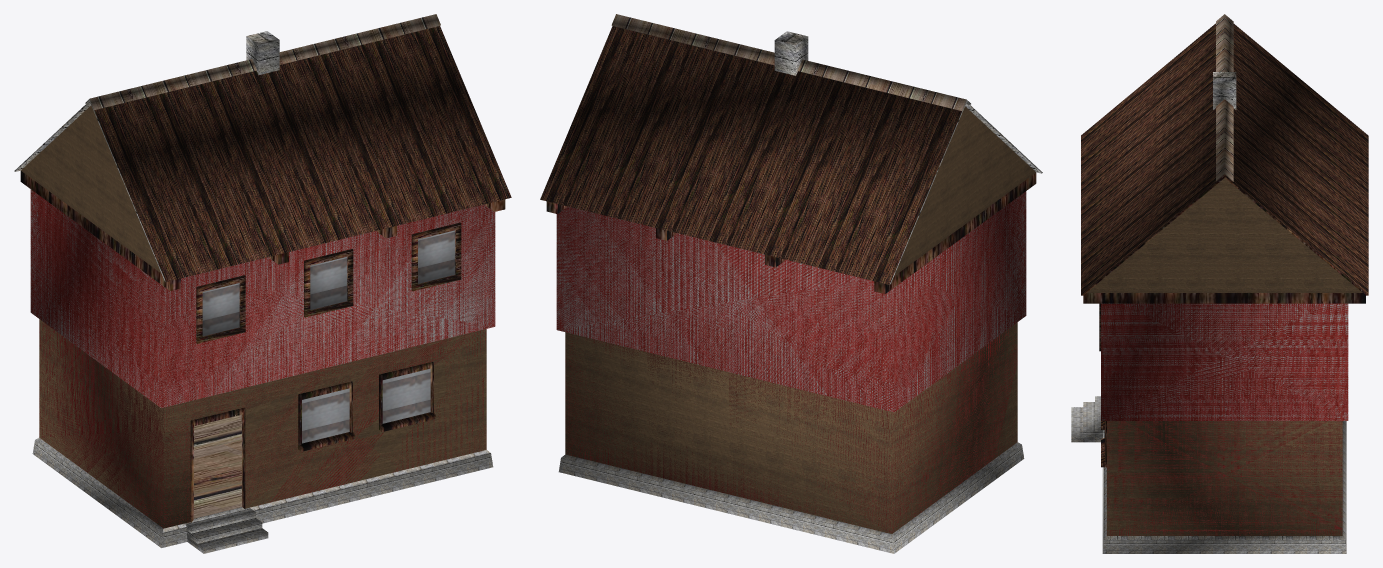
File: building1.obj
3 views of the same model, side by side, from view 1: azimuth 30°, elevation 25°; view 2: azimuth 150°, elevation 25°; view 3: azimuth 270°, elevation 25° (orthographic). The views are drawn at different scales.
Parts seen in each view (by area): view 1: rooftop, wall4, wall2, face1, wall1, wall3, house_1_Cube_004_house_1_Cube_004_Detached, base, face3, roofside, trim, house_1_Cube_004_house_1_Cube_004 (+5 smaller); view 2: rooftop, wall4, wall1, wall2, wall3, base, roofside, rooftip, beams, chimny; view 3: rooftop, wall4, wall1, roofside, wall3, wall2, base, beams, rooftip, trim, chimny.
Boxes of the visible parts, x1,y1,x2,y2 form: rooftop: (90, 26, 511, 281); wall4: (30, 189, 495, 407); wall2: (30, 189, 495, 407); face1: (241, 329, 486, 508); wall1: (39, 319, 190, 528); wall3: (39, 320, 190, 528); house_1_Cube_004_house_1_Cube_004_Detached: (202, 230, 455, 443); base: (32, 438, 493, 553); face3: (242, 329, 486, 504); roofside: (21, 105, 160, 272); trim: (190, 222, 461, 522); house_1_Cube_004_house_1_Cube_004: (194, 414, 241, 518); rooftop: (540, 26, 965, 284); wall4: (556, 191, 1026, 412); wall1: (565, 322, 1017, 533); wall2: (556, 191, 1026, 411); wall3: (565, 323, 1017, 532); base: (558, 442, 1024, 553); roofside: (894, 106, 1035, 275); rooftip: (611, 14, 966, 110); beams: (546, 172, 1036, 293); chimny: (774, 31, 1042, 284); rooftop: (1081, 23, 1368, 295); wall4: (1101, 303, 1348, 420); wall1: (1107, 421, 1342, 535); roofside: (1086, 178, 1362, 292); wall3: (1107, 421, 1342, 535); wall2: (1101, 303, 1348, 420); base: (1071, 396, 1346, 553); beams: (1083, 293, 1365, 303); rooftip: (1216, 14, 1233, 181); trim: (1081, 174, 1368, 467); chimny: (1213, 72, 1236, 109).
Bounding box in the file's own units: 3.22 × 3.75 × 2.52.
7 materials, 7 textured.
